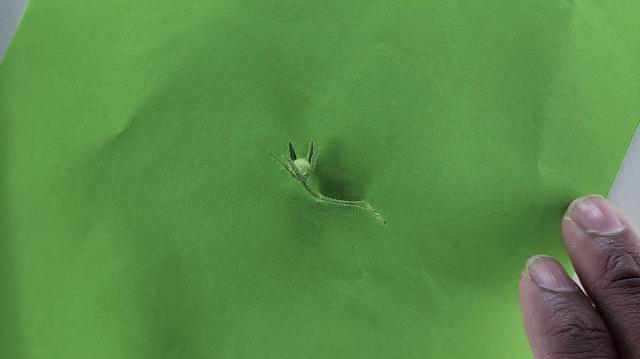Fruit Bud: (287, 139, 321, 181)
